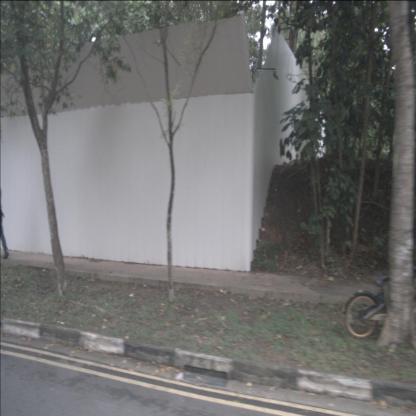human-pedestrian-adult: (0, 173, 10, 260)
vehicle-bicycle: (344, 270, 416, 339)
